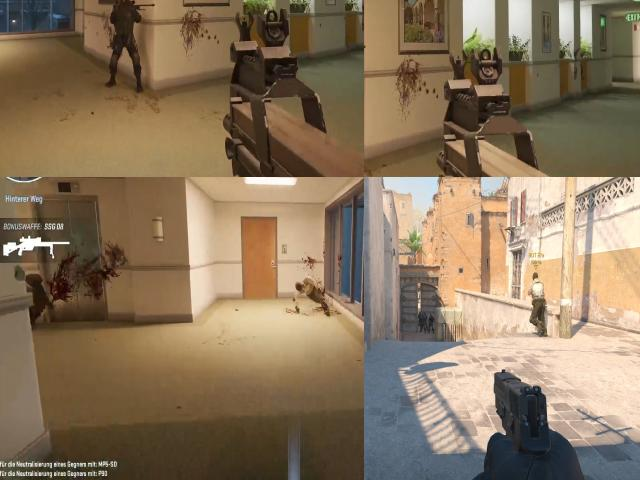CT: (109, 0, 138, 42), (428, 313, 434, 333), (417, 311, 422, 330), (421, 312, 425, 333), (424, 312, 428, 331)
CT-Head: (118, 0, 131, 4), (422, 312, 424, 316), (424, 312, 426, 315), (430, 314, 432, 316), (419, 312, 421, 314)
Dead: (292, 269, 329, 310)
T: (530, 274, 546, 337)
T-Head: (532, 272, 540, 284)
